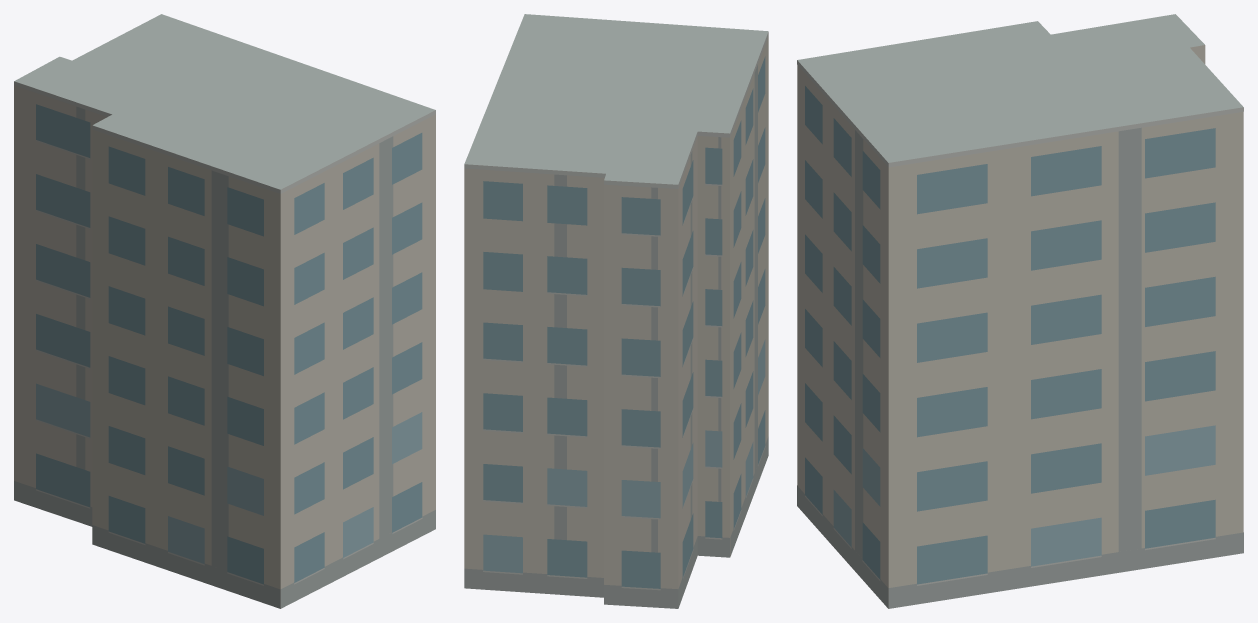
Rendered from survey-upis-32941858.glb.
The picture shows the model from 3 angles, left to right: view 1: azimuth 30°, elevation 25°; view 2: azimuth 150°, elevation 25°; view 3: azimuth 270°, elevation 25°; orthographic projection. The views are drawn at different scales.
Visible parts, largest first — view 1: survey-upis-32941858.tmp; view 2: survey-upis-32941858.tmp; view 3: survey-upis-32941858.tmp.
Part boxes in pixels (box(x1,y1,x2,y2)): survey-upis-32941858.tmp: box(14, 14, 435, 608); survey-upis-32941858.tmp: box(464, 14, 768, 608); survey-upis-32941858.tmp: box(797, 14, 1243, 608).
Size of the model in its own units: 17.42 by 24.31 by 22.08.
